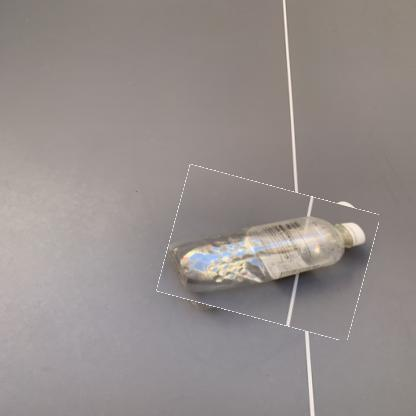plastic-bottles: (164, 176, 375, 331)
